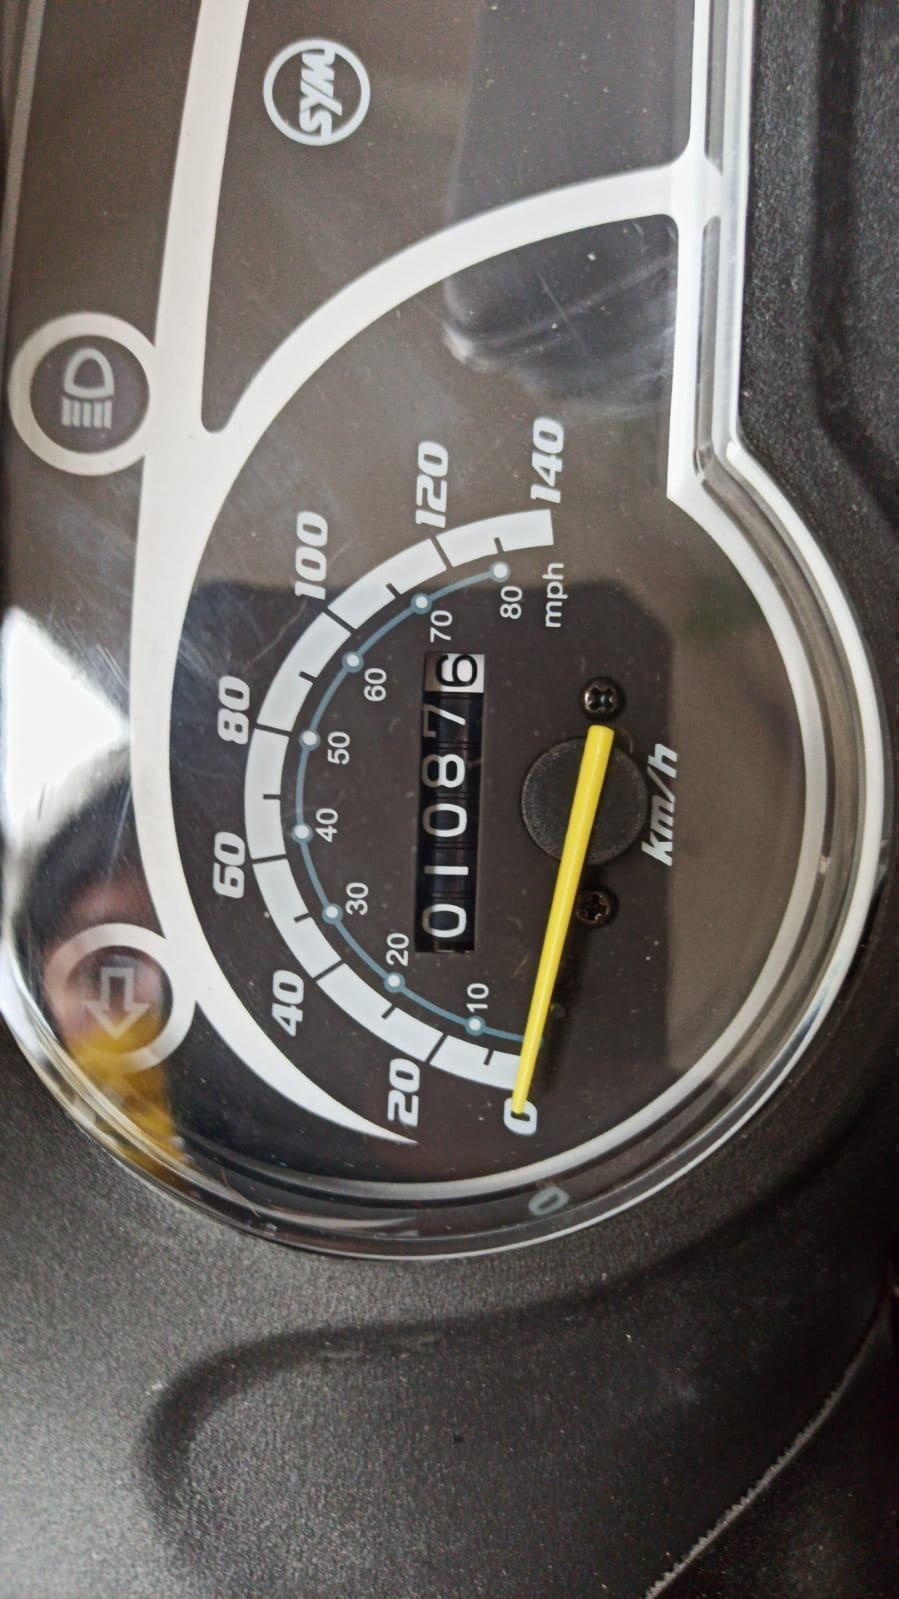0: (416, 897, 471, 942), (416, 796, 471, 841)
1: (415, 851, 475, 885)
6: (428, 648, 482, 689)
7: (416, 696, 473, 741)
8: (415, 748, 470, 792)
odometer: (403, 642, 493, 962)
